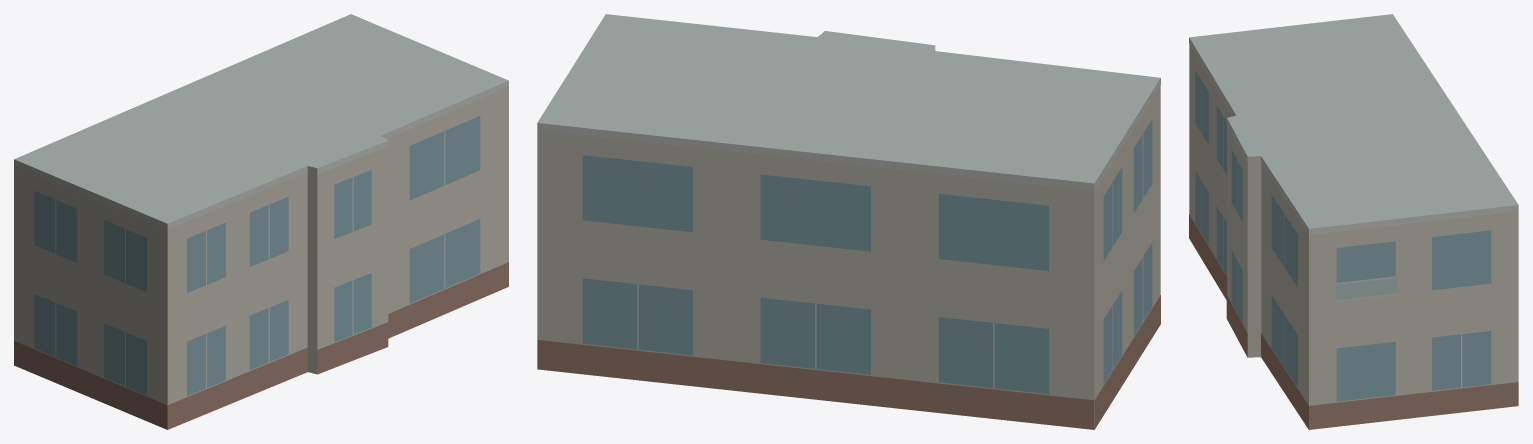
File: survey-upis-32616230.glb
The picture shows the model from 3 angles, left to right: view 1: azimuth 30°, elevation 25°; view 2: azimuth 150°, elevation 25°; view 3: azimuth 270°, elevation 25°; orthographic projection. The views are drawn at different scales.
Parts seen in each view (by area): view 1: survey-upis-32616230.tmp; view 2: survey-upis-32616230.tmp; view 3: survey-upis-32616230.tmp.
Part boxes in pixels (<box>): survey-upis-32616230.tmp: <box>14,14,508,429</box>; survey-upis-32616230.tmp: <box>537,14,1160,429</box>; survey-upis-32616230.tmp: <box>1189,14,1518,429</box>.
Size of the model in its own units: 18.13 by 7.9 by 11.75.
